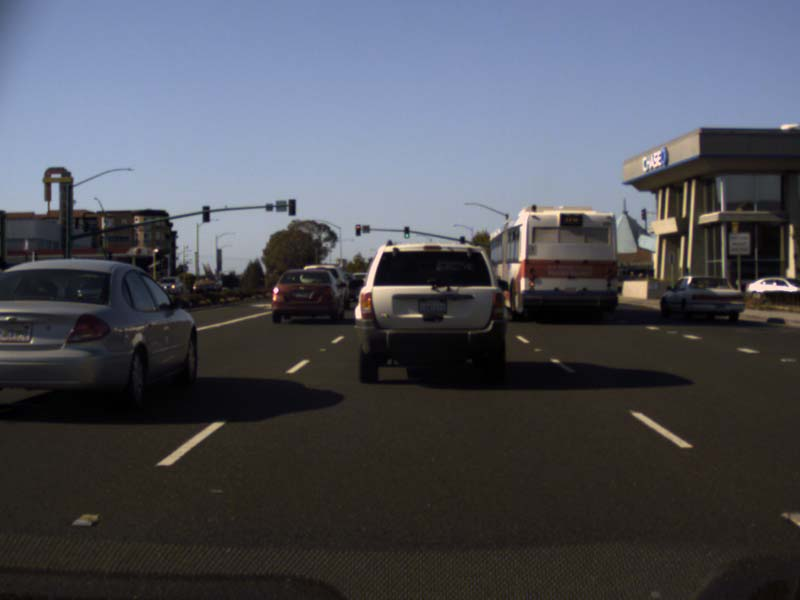Green: (403, 225, 409, 237), (460, 236, 464, 247)
Red: (355, 224, 360, 236)
